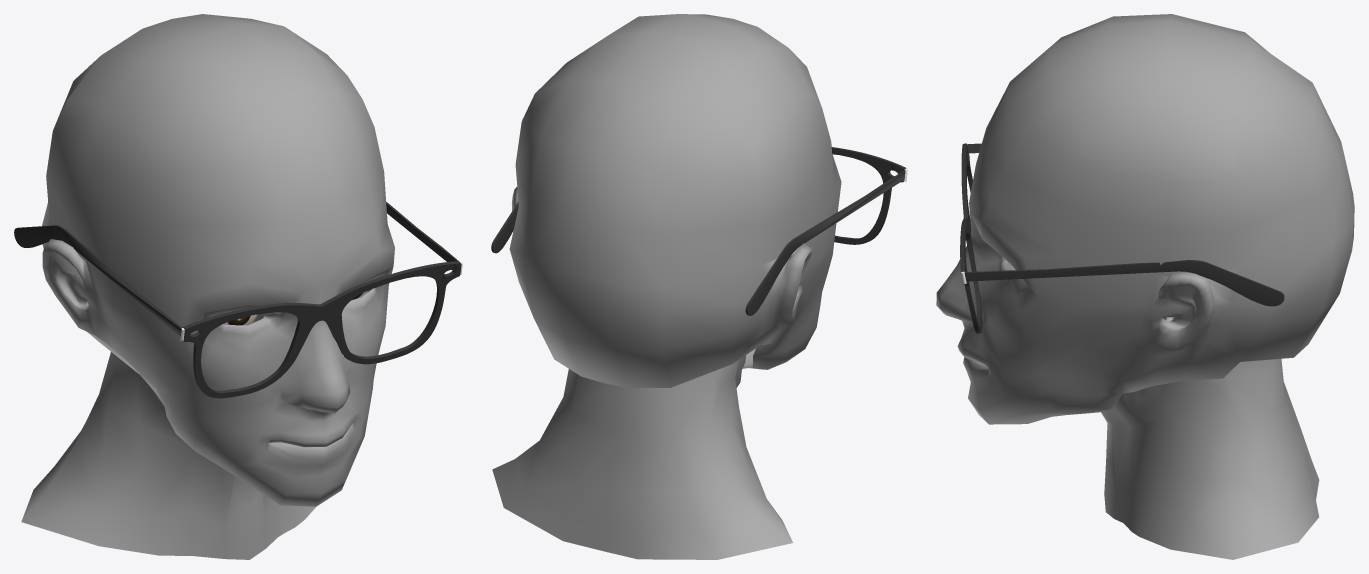
File: male-head.glb
The picture shows the model from 3 angles, left to right: view 1: azimuth 30°, elevation 25°; view 2: azimuth 150°, elevation 25°; view 3: azimuth 270°, elevation 25°; orthographic projection. The views are drawn at different scales.
Parts seen in each view (by area): view 1: male-head-top, male-head-neck, glassese-front-frame, glassese-side-frame; view 2: male-head-top, male-head-neck, glassese-side-frame, glassese-front-frame; view 3: male-head-top, male-head-neck, glassese-side-frame, glassese-front-frame.
Part boxes in pixels (left/top/right/bottom): male-head-top: left=42, top=14, right=394, bottom=506; male-head-neck: left=21, top=314, right=315, bottom=559; glassese-front-frame: left=183, top=261, right=461, bottom=398; glassese-side-frame: left=14, top=202, right=458, bottom=336; male-head-top: left=509, top=14, right=841, bottom=388; male-head-neck: left=492, top=355, right=792, bottom=559; glassese-side-frame: left=491, top=170, right=905, bottom=315; glassese-front-frame: left=831, top=147, right=906, bottom=244; male-head-top: left=936, top=14, right=1354, bottom=424; male-head-neck: left=1101, top=359, right=1319, bottom=559; glassese-side-frame: left=964, top=143, right=1284, bottom=306; glassese-front-frame: left=960, top=143, right=982, bottom=333.
Size of the model in its own units: 6.97 by 10.42 by 8.26.
4 materials, 1 textured.
